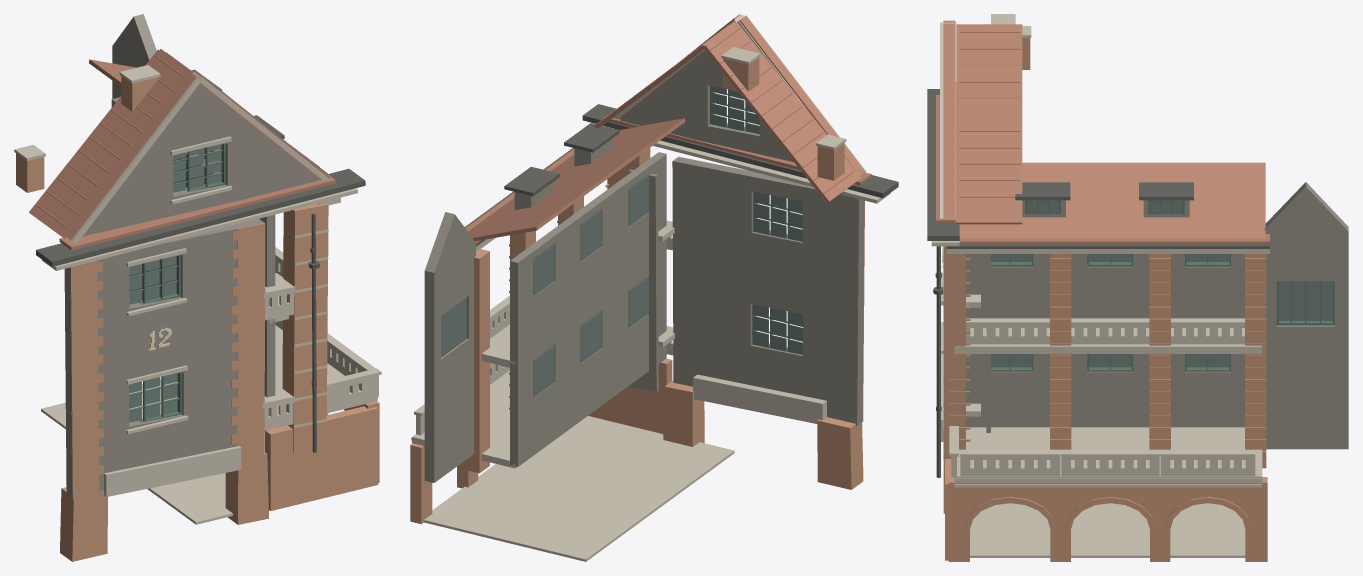
The model's file is lod-source.glb.
3 views of the same model, side by side, from view 1: azimuth 30°, elevation 25°; view 2: azimuth 150°, elevation 25°; view 3: azimuth 270°, elevation 25° (orthographic). The views are drawn at different scales.
Visible parts, largest first — view 1: 新华村12号题号山墙; view 2: 新华村12号题号山墙; view 3: 新华村12号题号山墙.
Boxes of the visible parts, left/top/right/bottom form: 新华村12号题号山墙: left=14, top=14, right=381, bottom=561; 新华村12号题号山墙: left=410, top=14, right=898, bottom=561; 新华村12号题号山墙: left=927, top=14, right=1348, bottom=561.
Size of the model in its own units: 9.85 by 12.73 by 10.64.
